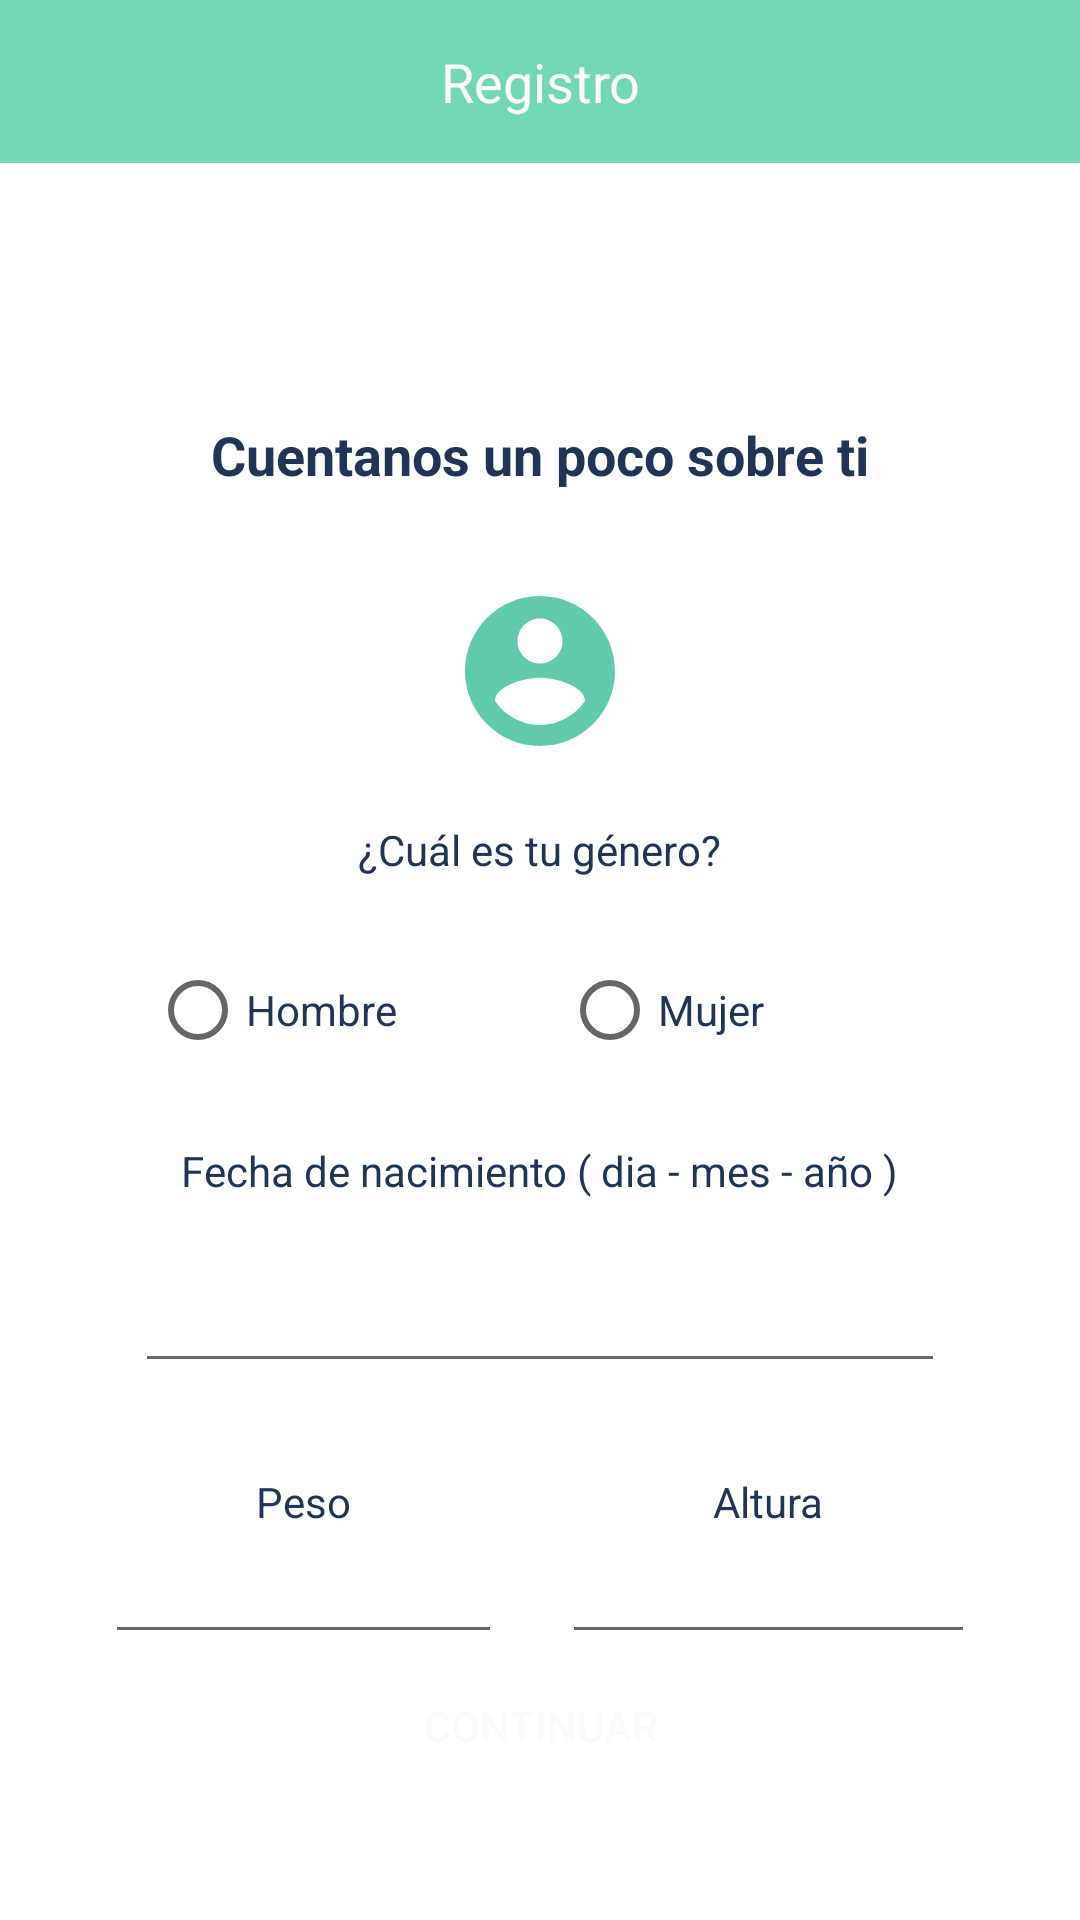

Where to tap for icons on this 1080w x 1920h app screen, as point (x, y):
account circle: point (540, 671)
